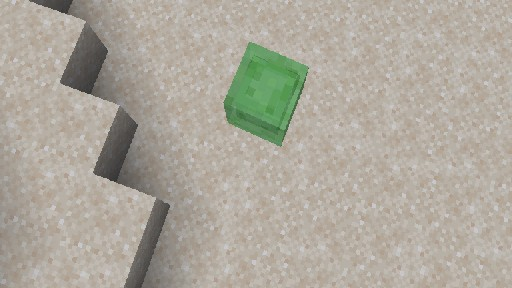slime: (222, 41, 309, 147)
